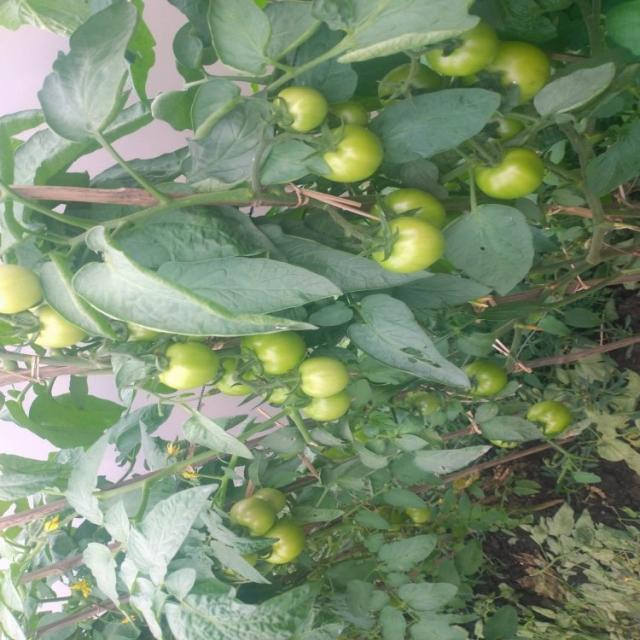tomato: (298, 113, 403, 193), (476, 31, 570, 106), (407, 16, 507, 85), (363, 215, 446, 284), (245, 510, 311, 585), (365, 171, 449, 229), (146, 338, 222, 402), (470, 142, 551, 202), (204, 341, 270, 413), (32, 299, 98, 360), (291, 348, 358, 407), (247, 326, 318, 381), (288, 384, 357, 430), (457, 353, 511, 406), (276, 82, 329, 132), (226, 495, 277, 544), (1, 260, 43, 317), (470, 103, 529, 143), (528, 394, 572, 438), (260, 483, 290, 516)
